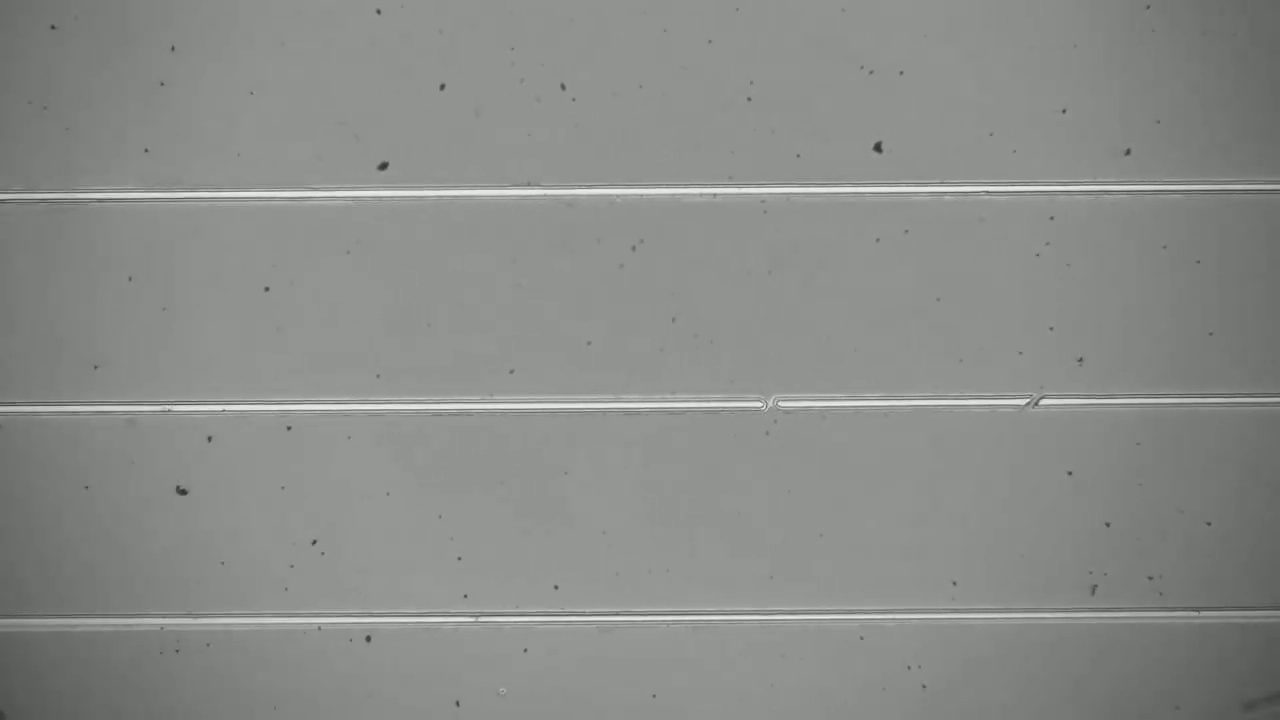open: (746, 387, 793, 428), (1012, 384, 1052, 422)
